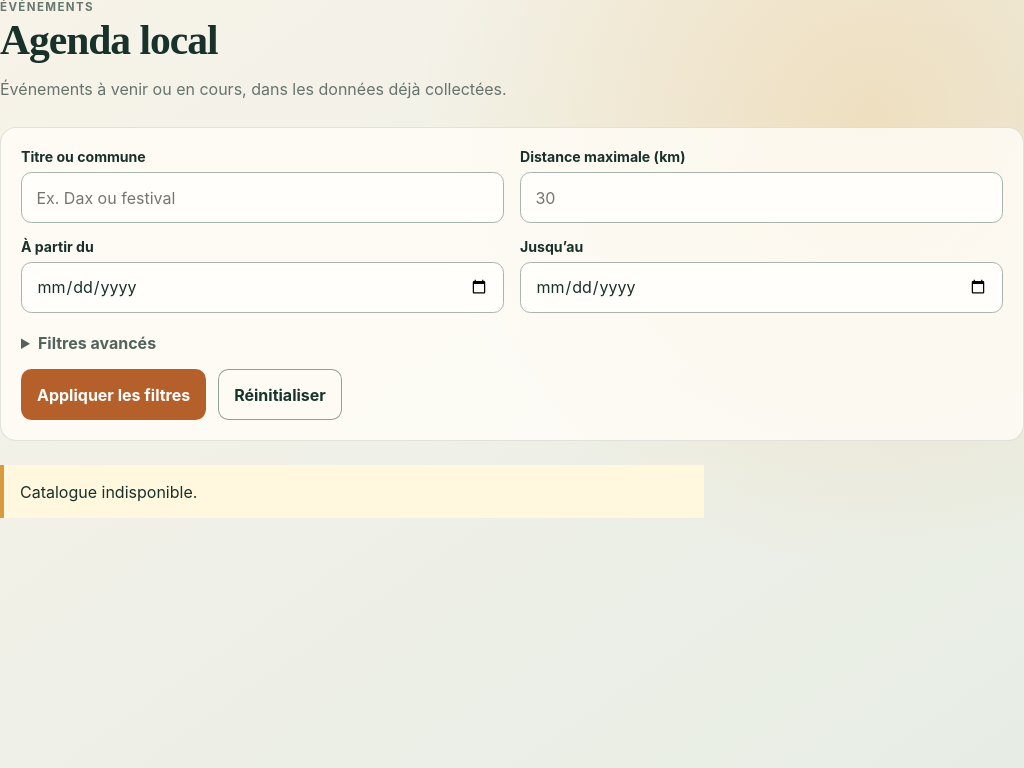
Scenario: event catalogue › displays unavailable and empty catalogues without collecting automatically
Expected: the message reads "Catalogue indisponible.", [20,482,197,502]
Click the button "Réinitialiser".
click(280, 394)  # box [218,369,342,420]
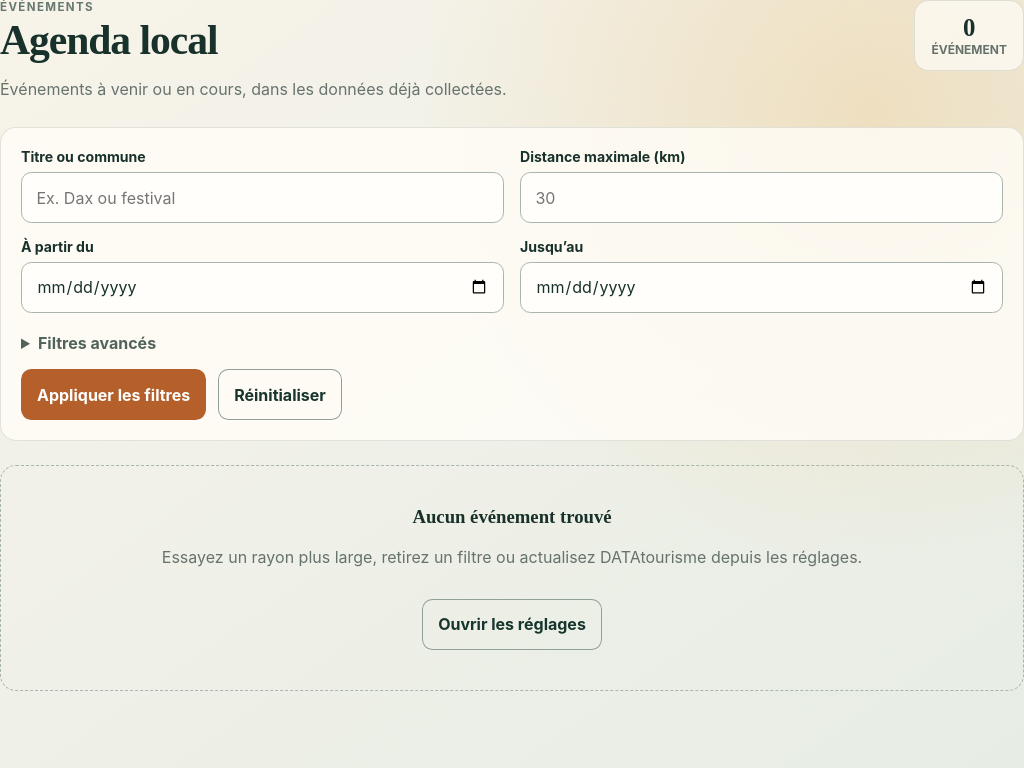
Expected: the heading "Aucun événement trouvé" is shown, [412,506,612,527]
Expected: the message "Catalogue indisponible." is gone
